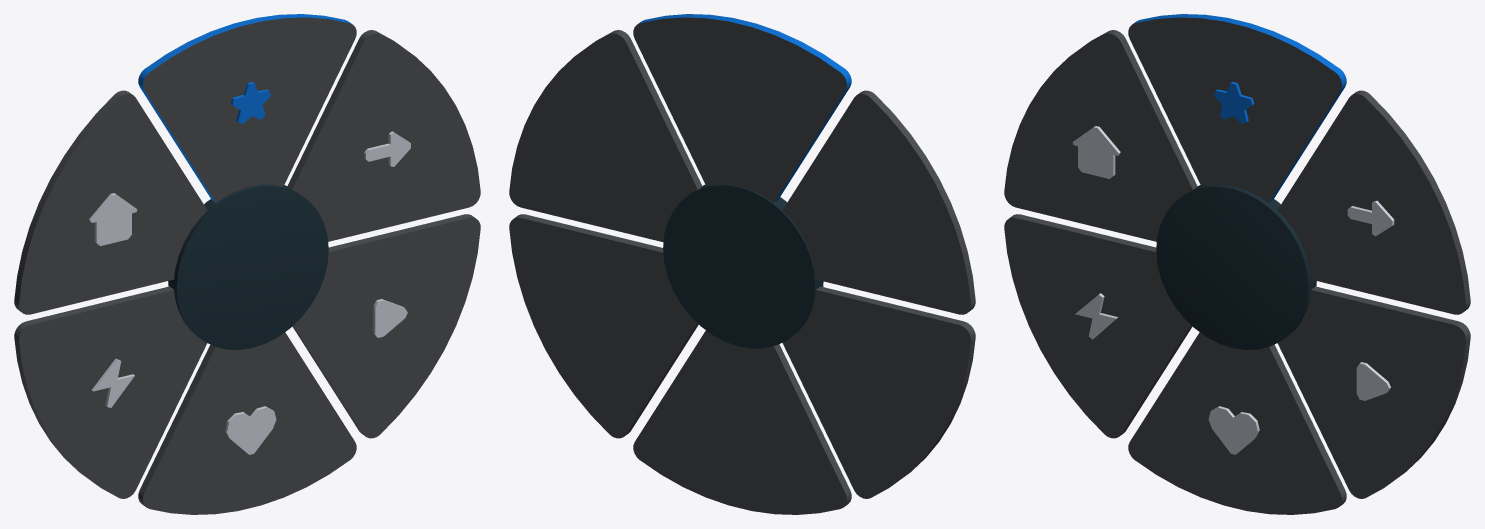
The model's file is radial-pie-menu-d4abda.glb.
3 renders of one model, left to right at view 1: azimuth 30°, elevation 25°; view 2: azimuth 150°, elevation 25°; view 3: azimuth 330°, elevation 25°, orthographic.
Visible parts, largest first — view 1: menu; view 2: menu; view 3: menu.
Boxes of the visible parts, x1,y1,x2,y2 form: menu: (14,14,480,514); menu: (509,14,975,514); menu: (1004,14,1470,514).
Size of the model in its own units: 0.2792 by 0.2797 by 0.0098.
